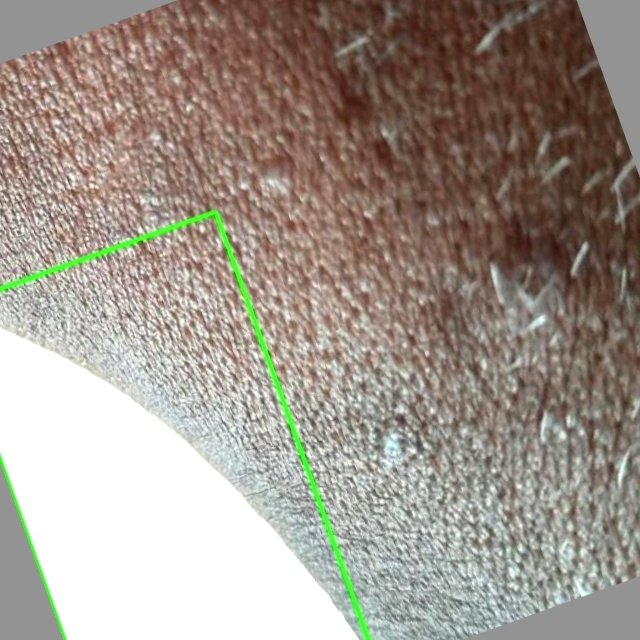Seborrheic Dermatitis: (0, 211, 368, 639)
